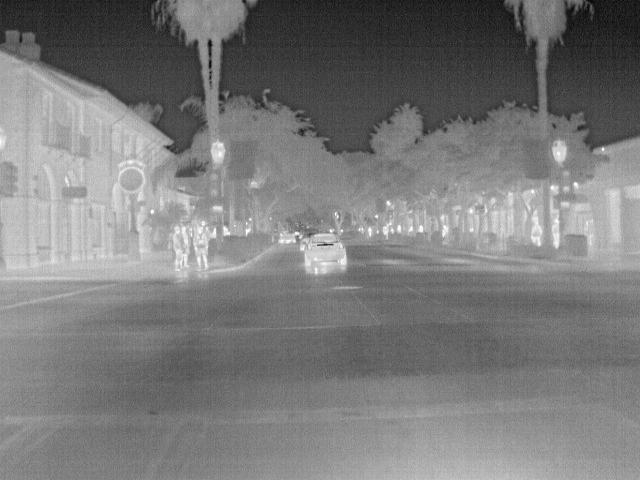car: (304, 233, 349, 269), (277, 228, 296, 246)
person: (192, 226, 213, 271), (170, 224, 184, 269), (179, 226, 192, 271), (548, 215, 563, 249), (529, 212, 543, 248)
